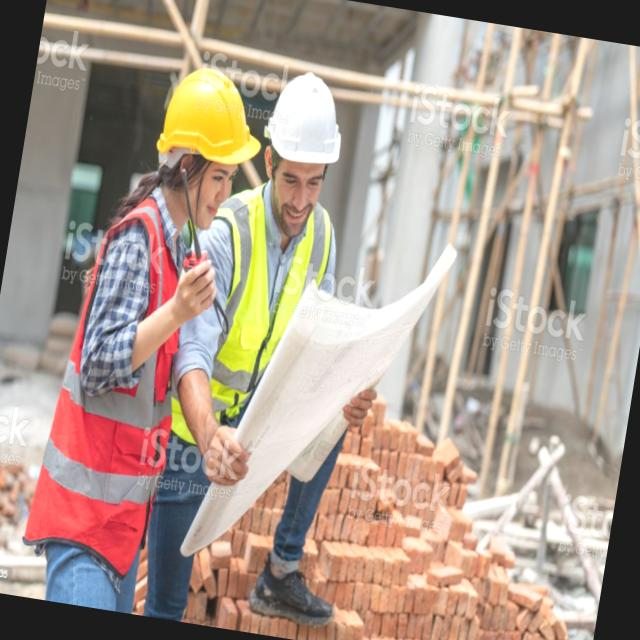helmet: (145, 46, 275, 192), (261, 63, 363, 183)
no-goggles: (276, 162, 328, 200), (189, 160, 237, 194)
vest: (29, 178, 207, 572), (177, 174, 330, 448)
